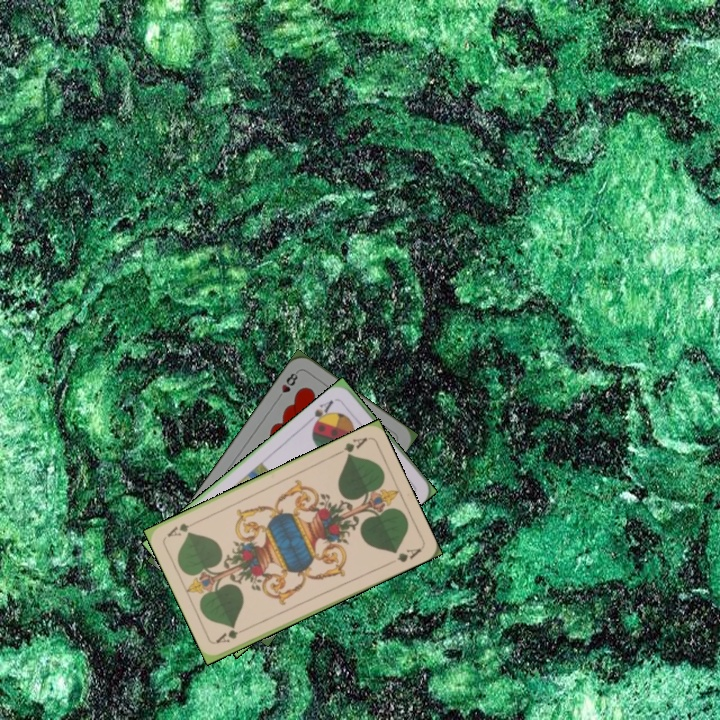GA: (332, 433, 370, 460), (212, 623, 251, 646)
H8: (273, 367, 301, 403)
SA: (305, 396, 336, 429)
